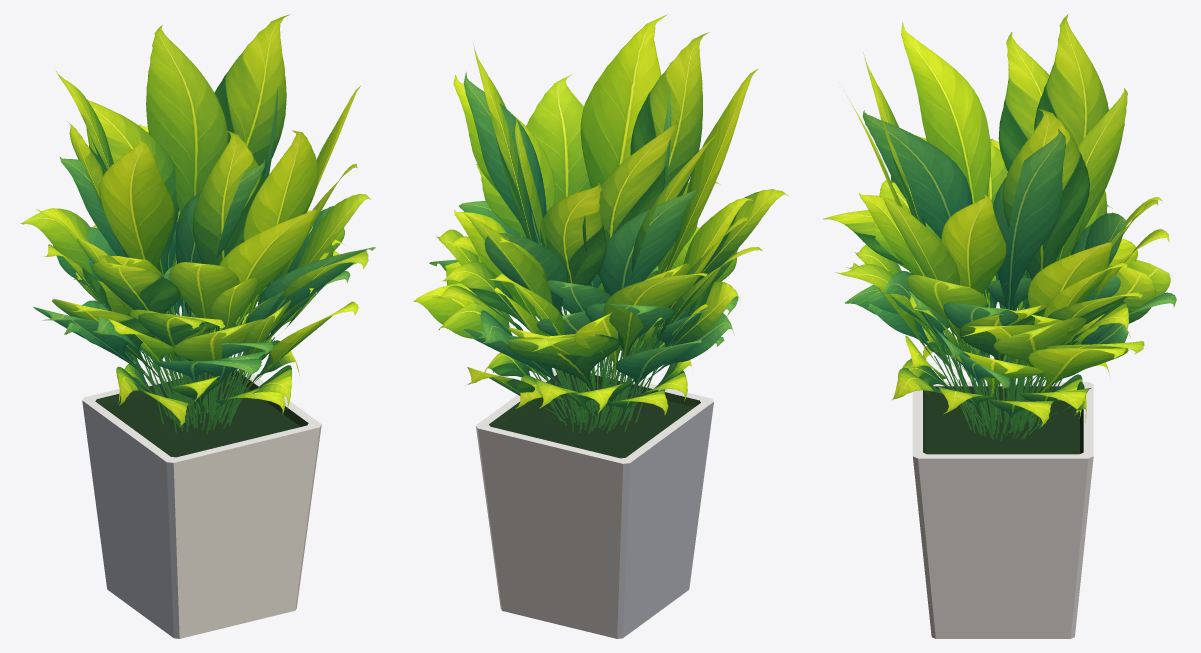
Rendered from planta-tropical.glb.
The picture shows the model from 3 angles, left to right: view 1: azimuth 30°, elevation 25°; view 2: azimuth 150°, elevation 25°; view 3: azimuth 270°, elevation 25°; orthographic projection.
Parts seen in each view (by area): view 1: Follaje 2.5D · hojas de dos caras, Maceta ligera, Pecíolos · conexión a hojas; view 2: Follaje 2.5D · hojas de dos caras, Maceta ligera, Pecíolos · conexión a hojas; view 3: Follaje 2.5D · hojas de dos caras, Maceta ligera, Pecíolos · conexión a hojas.
Part boxes in pixels (bbox=[...]): Follaje 2.5D · hojas de dos caras: bbox=[20, 14, 375, 426]; Maceta ligera: bbox=[82, 369, 321, 638]; Pecíolos · conexión a hojas: bbox=[139, 306, 274, 434]; Follaje 2.5D · hojas de dos caras: bbox=[413, 15, 790, 419]; Maceta ligera: bbox=[476, 368, 713, 638]; Pecíolos · conexión a hojas: bbox=[528, 307, 659, 433]; Follaje 2.5D · hojas de dos caras: bbox=[823, 14, 1176, 426]; Maceta ligera: bbox=[912, 382, 1093, 638]; Pecíolos · conexión a hojas: bbox=[934, 287, 1068, 441].
Size of the model in its own units: 1.65 by 2.59 by 1.56.
8 materials, 2 textured.
